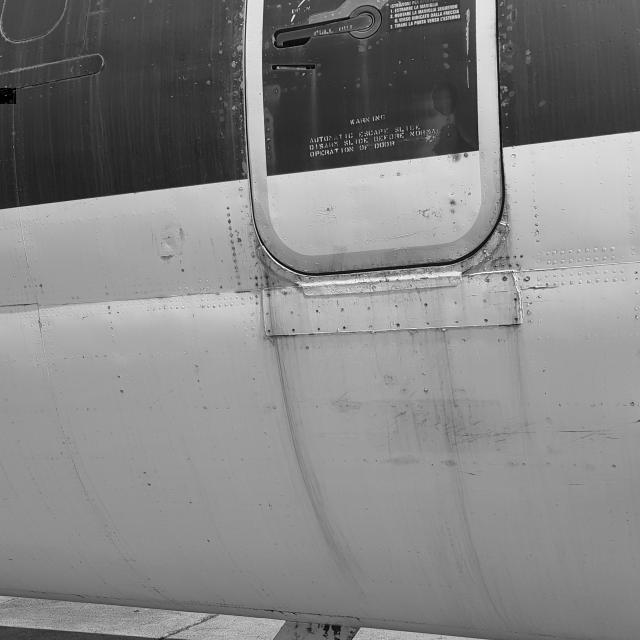crack: (1, 89, 17, 105)
